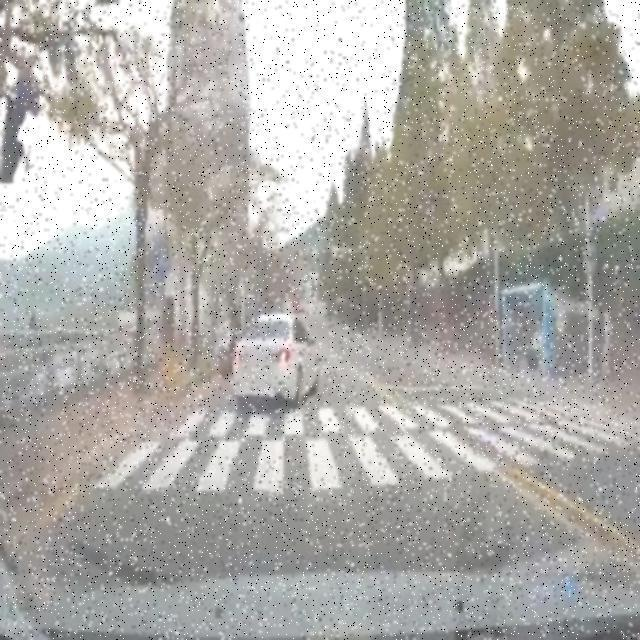Pedestrian crosswalk: (95, 393, 638, 530)
